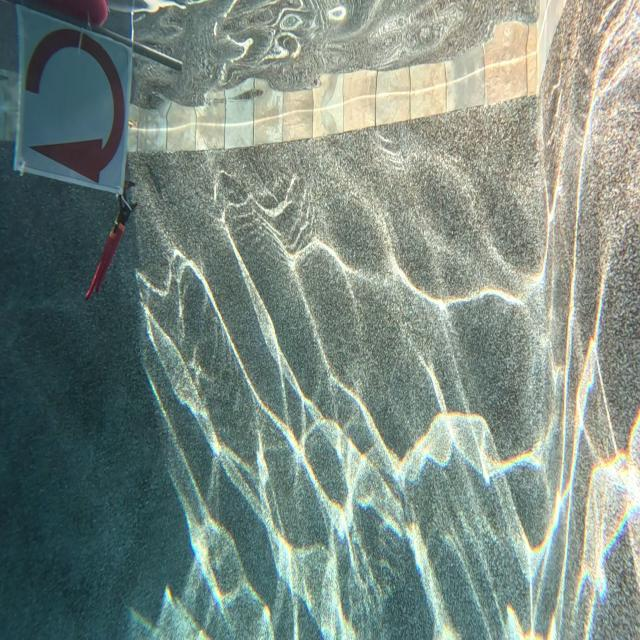red_side: (9, 5, 133, 191)
